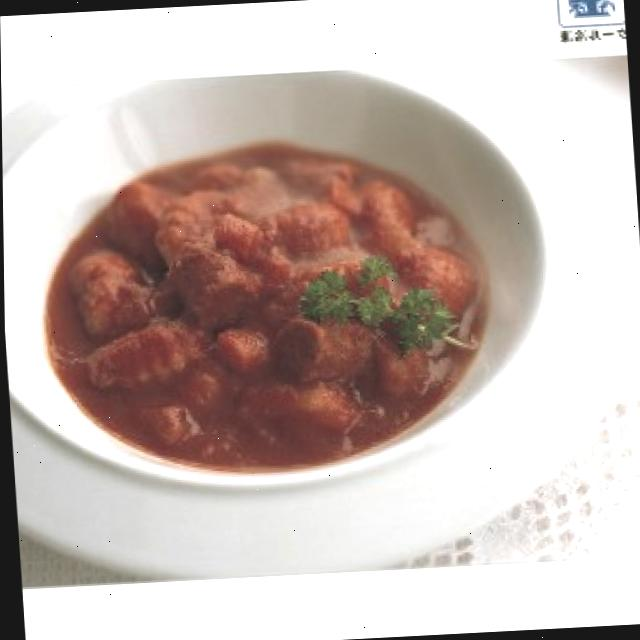汤锅炖物: (1, 57, 640, 580)
